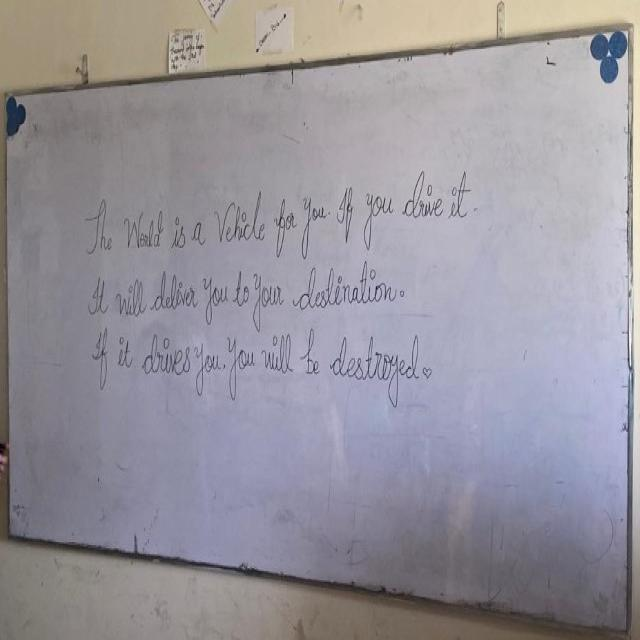White-board: (6, 21, 632, 637)
